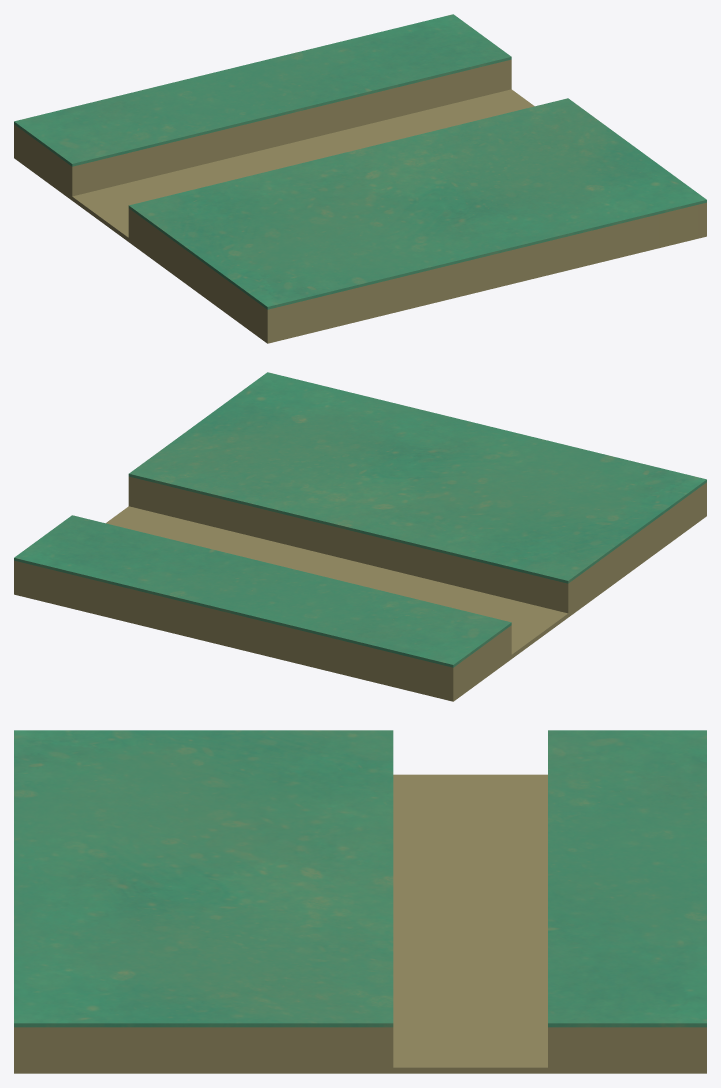
Rendered from citygate_level.fbx.
3 renders of one model, top to bottom at view 1: azimuth 30°, elevation 25°; view 2: azimuth 150°, elevation 25°; view 3: azimuth 270°, elevation 25°, orthographic. The views are drawn at different scales.
Visible parts, largest first — view 1: citygate; view 2: citygate; view 3: citygate.
Part boxes in pixels (x1=…): citygate: x1=14, y1=14, x2=706, y2=343; citygate: x1=14, y1=372, x2=706, y2=701; citygate: x1=14, y1=730, x2=706, y2=1073.
Size of what is drawn, in the model's own units: 50 by 49.97 by 4.
